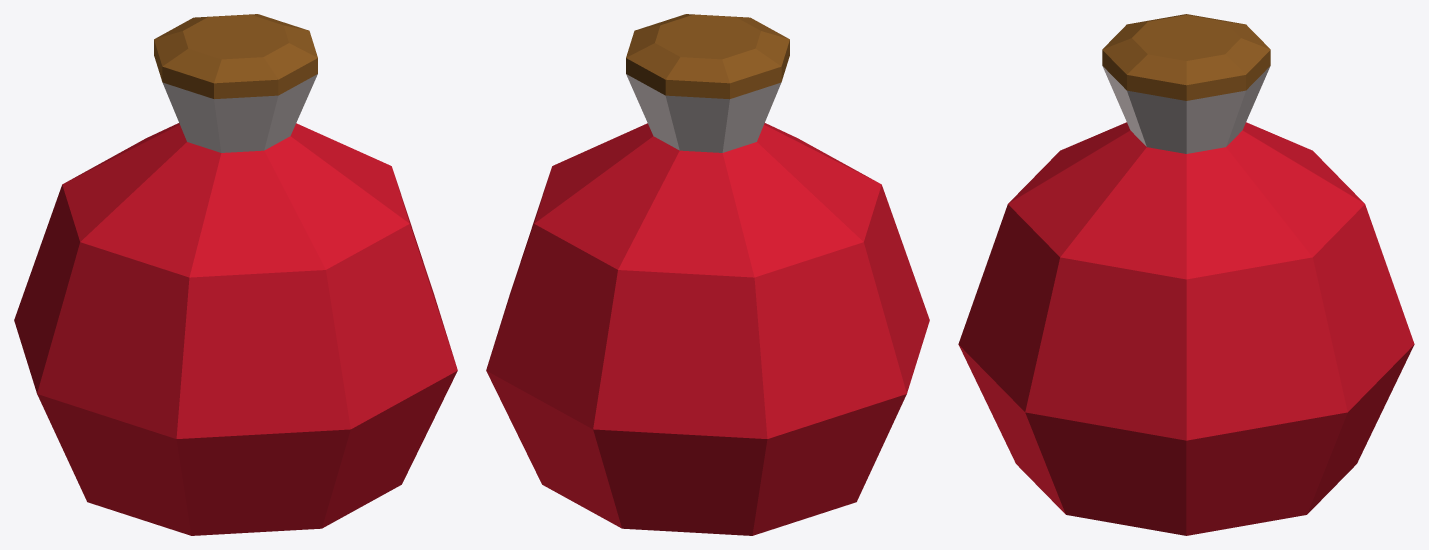
File: potion.fbx
3 views of the same model, side by side, from view 1: azimuth 30°, elevation 25°; view 2: azimuth 150°, elevation 25°; view 3: azimuth 270°, elevation 25° (orthographic).
Visible parts, largest first — view 1: Circle; view 2: Circle; view 3: Circle.
Part boxes in pixels (x1,y1,x2,y2): Circle: (14, 14, 457, 535); Circle: (486, 14, 929, 535); Circle: (958, 14, 1414, 535).
Bounding box in the file's own units: 216 × 222 × 216.
